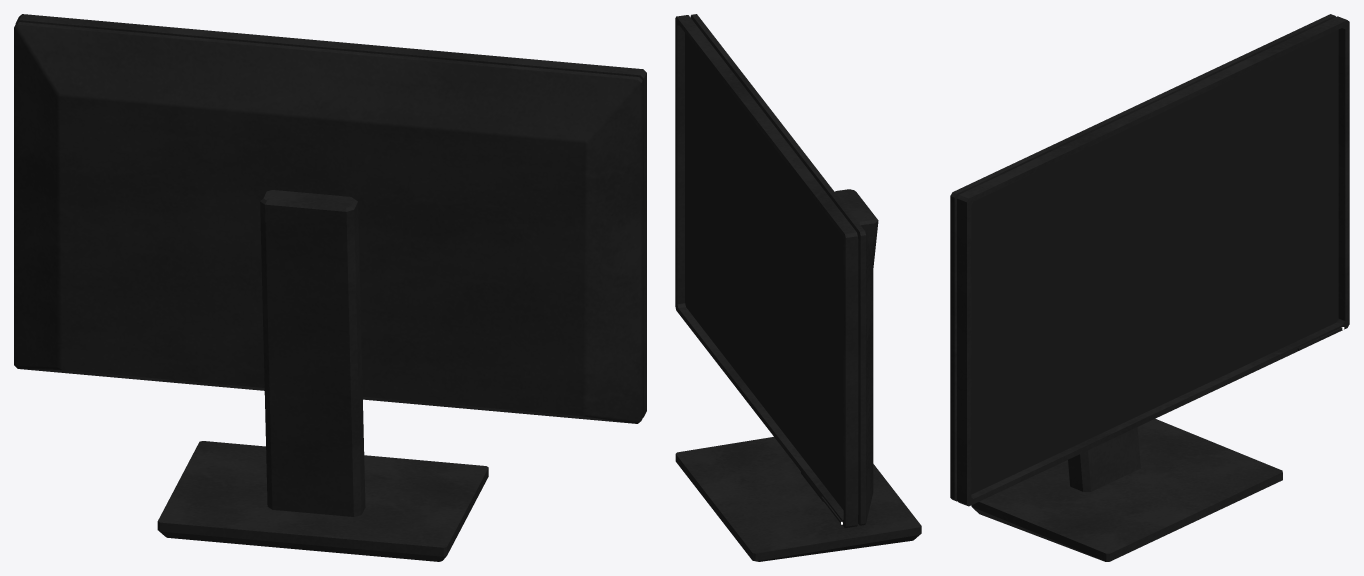
The model's file is monitor.glb.
The picture shows the model from 3 angles, left to right: view 1: azimuth 30°, elevation 25°; view 2: azimuth 150°, elevation 25°; view 3: azimuth 270°, elevation 25°; orthographic projection. The views are drawn at different scales.
Visible parts, largest first — view 1: monitor_geo; view 2: monitor_geo; view 3: monitor_geo.
Part boxes in pixels (x1,y1,x2,y2): monitor_geo: (14, 14, 646, 561); monitor_geo: (675, 14, 921, 561); monitor_geo: (950, 14, 1349, 561).
Bounding box in the file's own units: 0.4437 × 0.4441 × 0.4011.
1 material, 1 textured.
